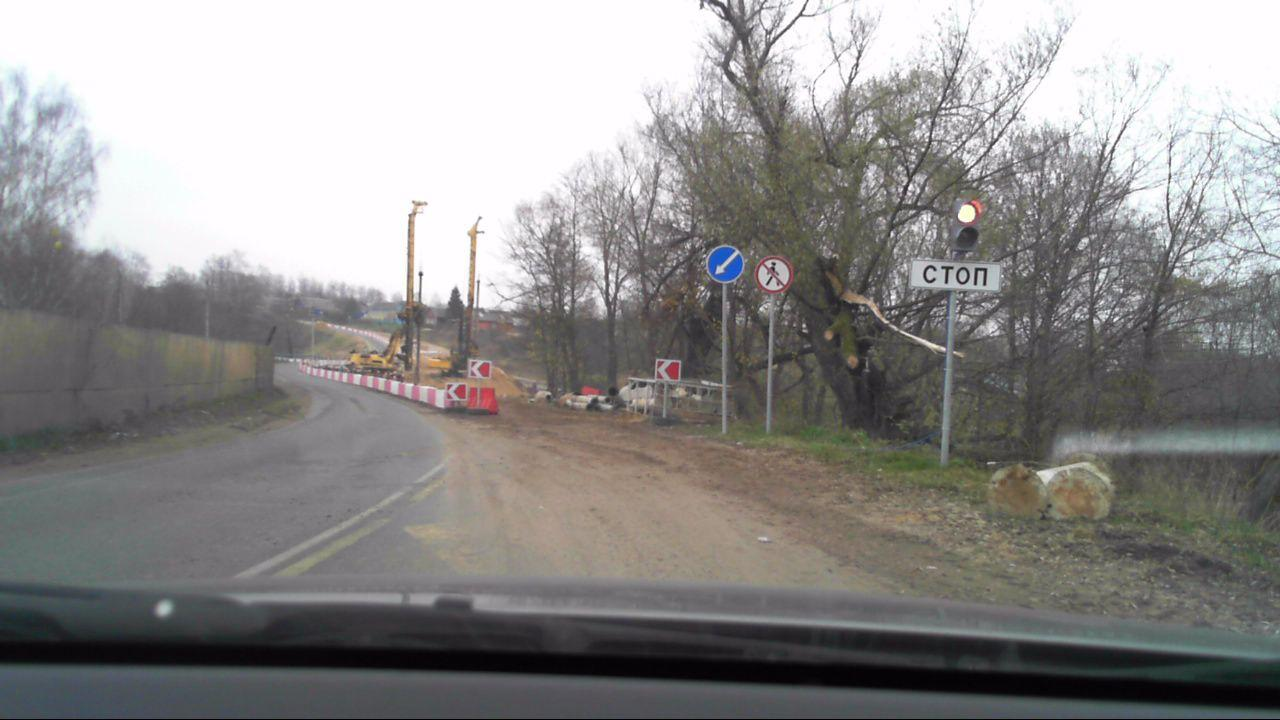1_34_2: (653, 357, 681, 380), (467, 357, 492, 377), (444, 382, 470, 401)
3_10: (755, 258, 792, 293)
4_2_2: (706, 243, 744, 284)
6_16: (909, 258, 999, 293)
